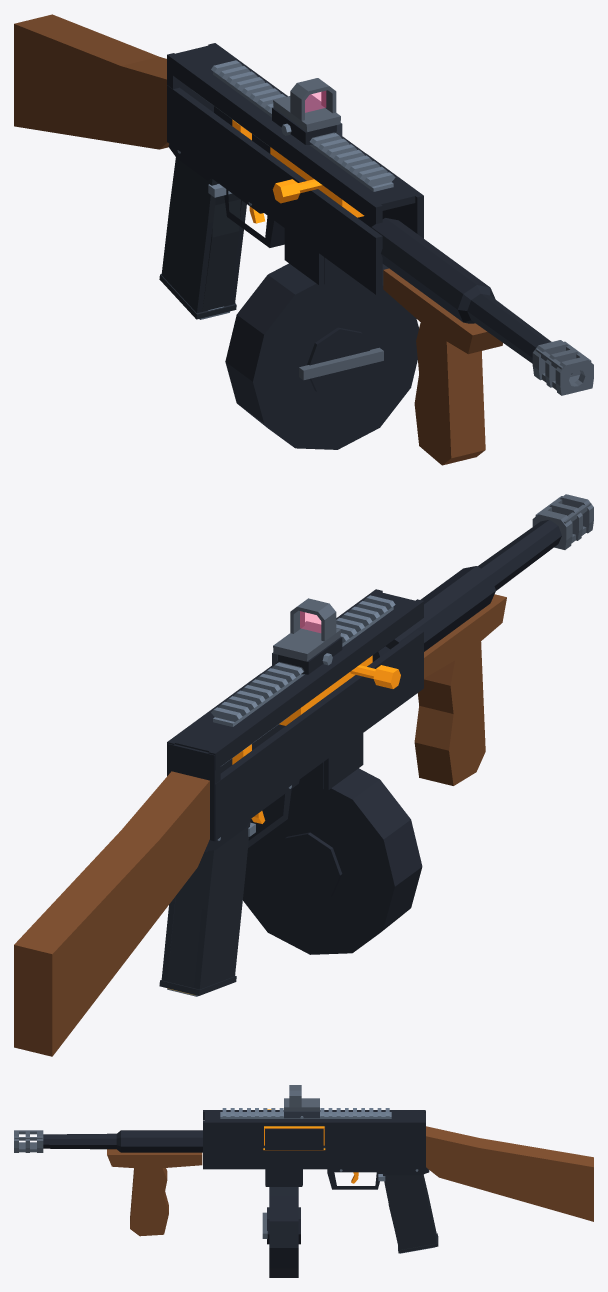
Rendered from kolmogorov_smg.glb.
3 views of the same model, one above another, from view 1: azimuth 30°, elevation 25°; view 2: azimuth 150°, elevation 25°; view 3: azimuth 270°, elevation 25° (orthographic). The views are drawn at different scales.
Parts seen in each view (by area): view 1: Magazine_DrumCanisterAndTower, SMG_HollowMonolithicReceiver, SMG_StockAssembly, Thompson_WalnutVerticalForegrip, Ergonomic_HollowPolymerGrip, SMG_HollowHandguardAndBarrel, Chamber_Breech, PicatinnyRail_Top_21_2mm, Compensator_BaffledBody, Universal_FCU_AdapterTang, Slide_Blowback, RedDot_Chassis (+3 smaller); view 2: SMG_StockAssembly, Magazine_DrumCanisterAndTower, SMG_HollowMonolithicReceiver, Thompson_WalnutVerticalForegrip, Ergonomic_HollowPolymerGrip, SMG_HollowHandguardAndBarrel, PicatinnyRail_Top_21_2mm, Chamber_Breech, Compensator_BaffledBody, RedDot_Chassis, Slide_Blowback, RedDot_BeveledHood (+1 smaller); view 3: SMG_HollowMonolithicReceiver, SMG_StockAssembly, Thompson_WalnutVerticalForegrip, Ergonomic_HollowPolymerGrip, SMG_HollowHandguardAndBarrel, Magazine_DrumCanisterAndTower, Chamber_Breech, PicatinnyRail_Top_21_2mm, PortDoor_StampedCover, Universal_FCU_AdapterTang, Compensator_BaffledBody, RedDot_Chassis (+2 smaller).
Part boxes in pixels (bbox=[...]): Magazine_DrumCanisterAndTower: bbox=[225, 263, 418, 449]; SMG_HollowMonolithicReceiver: bbox=[167, 43, 423, 294]; SMG_StockAssembly: bbox=[14, 14, 168, 149]; Thompson_WalnutVerticalForegrip: bbox=[383, 268, 502, 465]; Ergonomic_HollowPolymerGrip: bbox=[159, 157, 246, 319]; SMG_HollowHandguardAndBarrel: bbox=[371, 218, 551, 363]; Chamber_Breech: bbox=[169, 44, 421, 210]; PicatinnyRail_Top_21_2mm: bbox=[211, 60, 395, 191]; Compensator_BaffledBody: bbox=[532, 340, 593, 395]; Universal_FCU_AdapterTang: bbox=[168, 144, 284, 247]; Slide_Blowback: bbox=[270, 147, 364, 217]; RedDot_Chassis: bbox=[273, 94, 340, 132]; SMG_StockAssembly: bbox=[14, 771, 209, 1056]; Magazine_DrumCanisterAndTower: bbox=[243, 768, 422, 954]; SMG_HollowMonolithicReceiver: bbox=[167, 589, 423, 841]; Thompson_WalnutVerticalForegrip: bbox=[414, 594, 506, 785]; Ergonomic_HollowPolymerGrip: bbox=[159, 819, 250, 995]; SMG_HollowHandguardAndBarrel: bbox=[372, 519, 561, 661]; PicatinnyRail_Top_21_2mm: bbox=[211, 595, 395, 726]; Chamber_Breech: bbox=[174, 590, 419, 752]; Compensator_BaffledBody: bbox=[532, 494, 593, 549]; RedDot_Chassis: bbox=[273, 621, 340, 661]; Slide_Blowback: bbox=[279, 655, 400, 725]; RedDot_BeveledHood: bbox=[290, 598, 336, 641]; SMG_HollowMonolithicReceiver: bbox=[203, 1110, 425, 1186]; SMG_StockAssembly: bbox=[426, 1126, 593, 1221]; Thompson_WalnutVerticalForegrip: bbox=[107, 1149, 202, 1236]; Ergonomic_HollowPolymerGrip: bbox=[382, 1172, 438, 1253]; SMG_HollowHandguardAndBarrel: bbox=[43, 1130, 202, 1152]; Magazine_DrumCanisterAndTower: bbox=[267, 1187, 300, 1277]; Chamber_Breech: bbox=[205, 1110, 424, 1126]; PicatinnyRail_Top_21_2mm: bbox=[220, 1108, 391, 1118]; PortDoor_StampedCover: bbox=[265, 1128, 323, 1149]; Universal_FCU_AdapterTang: bbox=[327, 1167, 429, 1189]; Compensator_BaffledBody: bbox=[14, 1130, 43, 1152]; RedDot_Chassis: bbox=[284, 1098, 319, 1111].
Bounding box in the file's own units: 0.128 × 0.2506 × 0.711.
